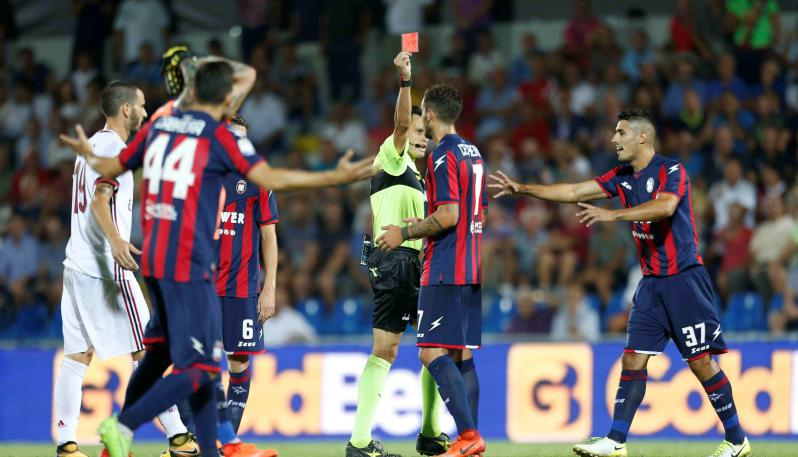red_card: (386, 27, 424, 80)
